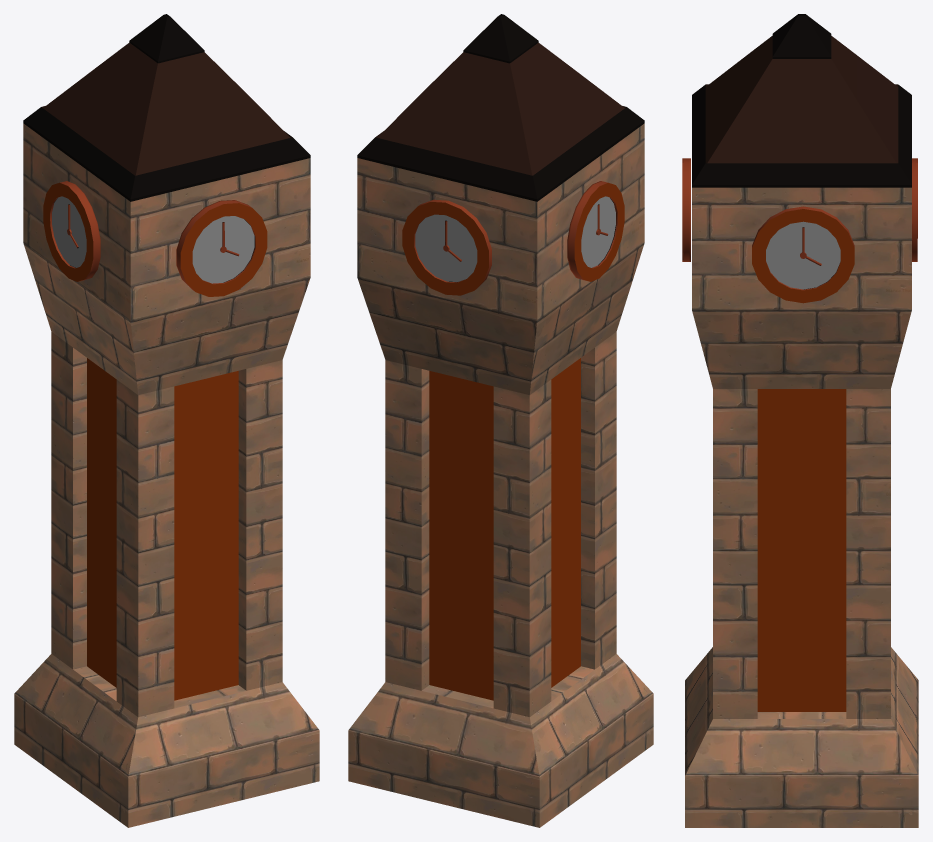
The model's file is ClockTower.FBX.
The picture shows the model from 3 angles, left to right: view 1: azimuth 30°, elevation 25°; view 2: azimuth 150°, elevation 25°; view 3: azimuth 270°, elevation 25°; orthographic projection. The views are drawn at different scales.
Visible parts, largest first — view 1: Box009; view 2: Box009; view 3: Box009.
Part boxes in pixels (x1,y1,x2,y2): Box009: (14,14,319,827); Box009: (348,14,653,827); Box009: (682,14,918,827).
Bounding box in the file's own units: 14.12 × 14.54 × 51.87.
7 materials, 1 textured.
